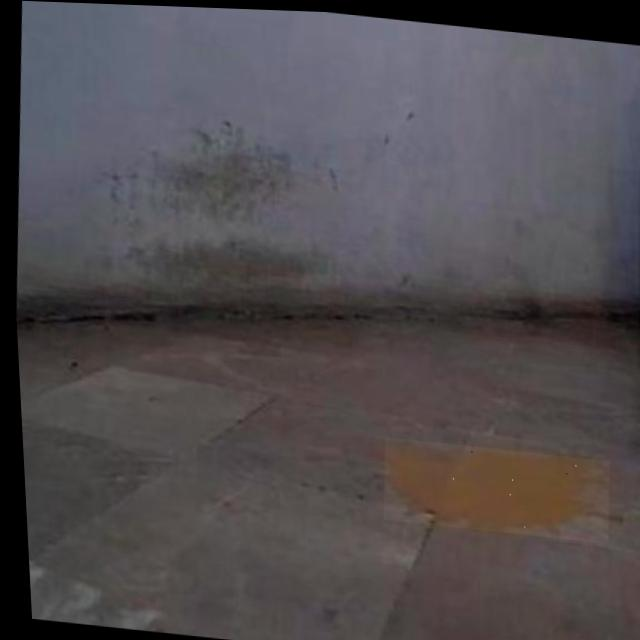spillage: (380, 443, 604, 528)
